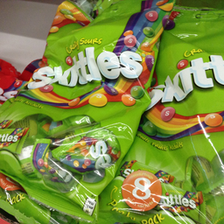candy: (1, 89, 134, 213), (27, 4, 160, 104), (97, 122, 221, 224), (138, 10, 220, 121)
